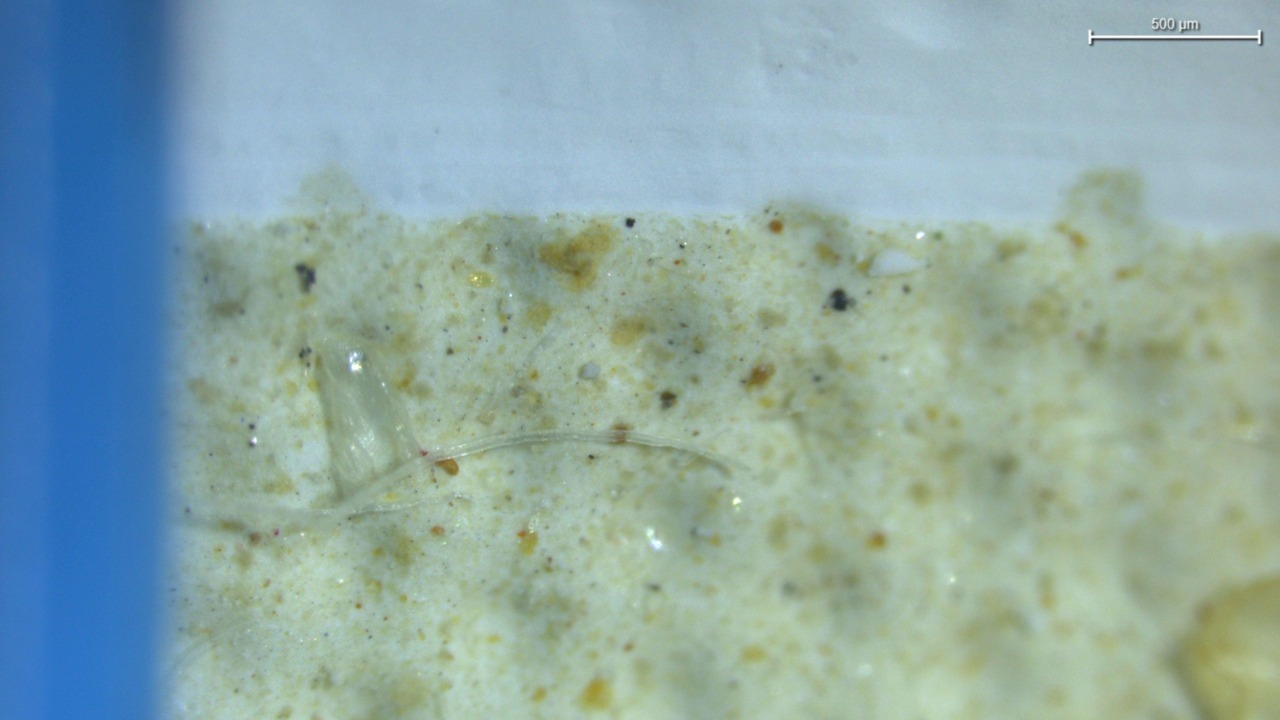microplastic_fragment: (307, 342, 421, 496)
